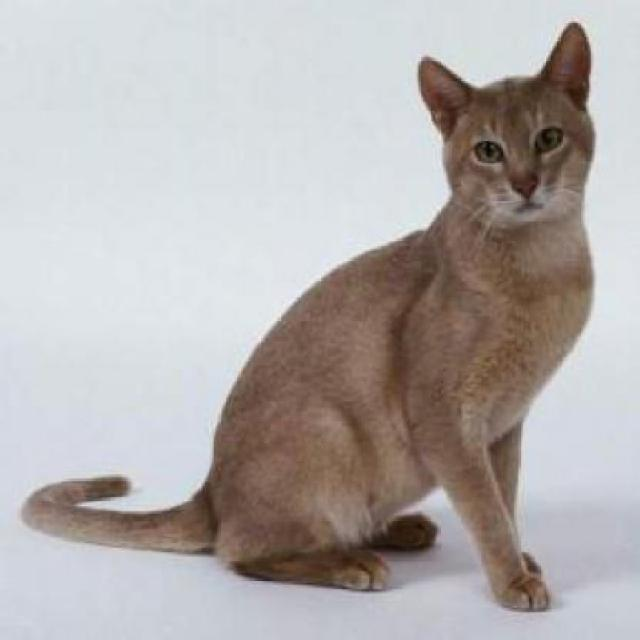cat: (17, 21, 597, 613)
